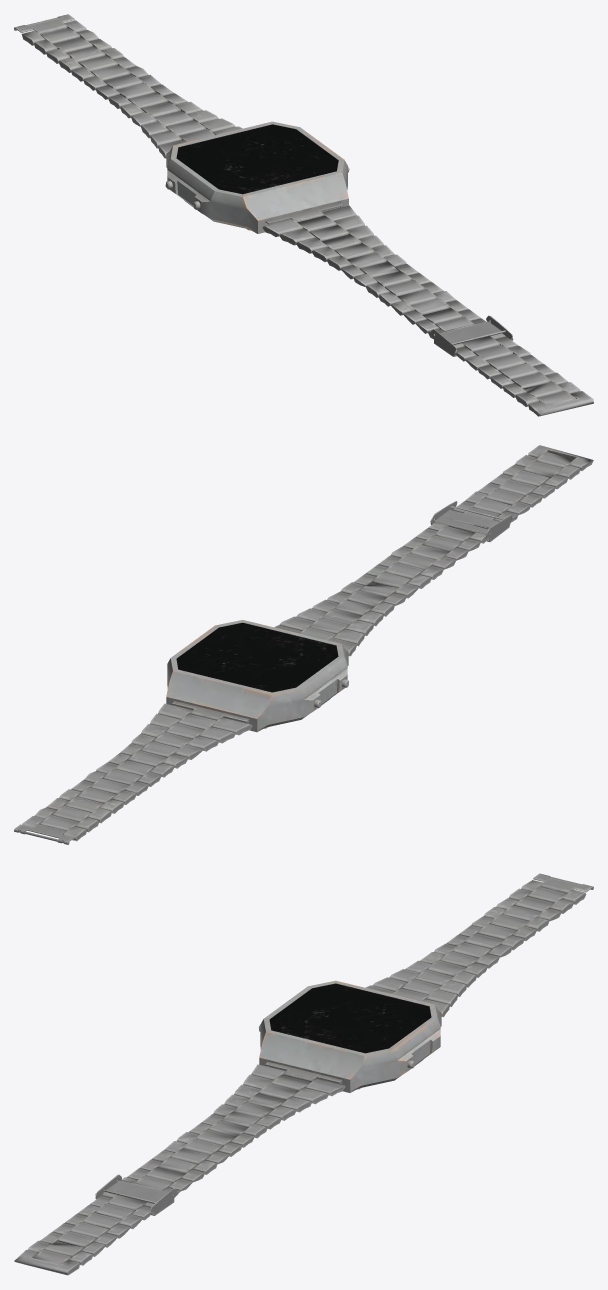
File: watch.glb
3 views of the same model, one above another, from view 1: azimuth 30°, elevation 25°; view 2: azimuth 150°, elevation 25°; view 3: azimuth 330°, elevation 25° (orthographic).
Parts seen in each view (by area): view 1: digital_wrist_watch_strap_b, digital_wrist_watch, digital_wrist_watch_strap_a, digital_wrist_watch_clasp; view 2: digital_wrist_watch_strap_b, digital_wrist_watch, digital_wrist_watch_strap_a, digital_wrist_watch_clasp; view 3: digital_wrist_watch_strap_b, digital_wrist_watch, digital_wrist_watch_strap_a, digital_wrist_watch_clasp.
Part boxes in pixels (x1,y1,x2,y2): digital_wrist_watch_strap_b: (262, 203, 593, 416); digital_wrist_watch: (165, 121, 349, 233); digital_wrist_watch_strap_a: (21, 20, 242, 158); digital_wrist_watch_clasp: (14, 14, 74, 34); digital_wrist_watch_strap_b: (274, 445, 593, 656); digital_wrist_watch: (166, 620, 348, 732); digital_wrist_watch_strap_a: (22, 701, 252, 841); digital_wrist_watch_clasp: (14, 824, 74, 844); digital_wrist_watch_strap_b: (14, 1062, 345, 1275); digital_wrist_watch: (259, 980, 441, 1092); digital_wrist_watch_strap_a: (365, 880, 586, 1017); digital_wrist_watch_clasp: (533, 873, 593, 893).
Size of the model in its own units: 0.0365 by 0.00834 by 0.2172.
Materials: 2 (2 with a texture image).
